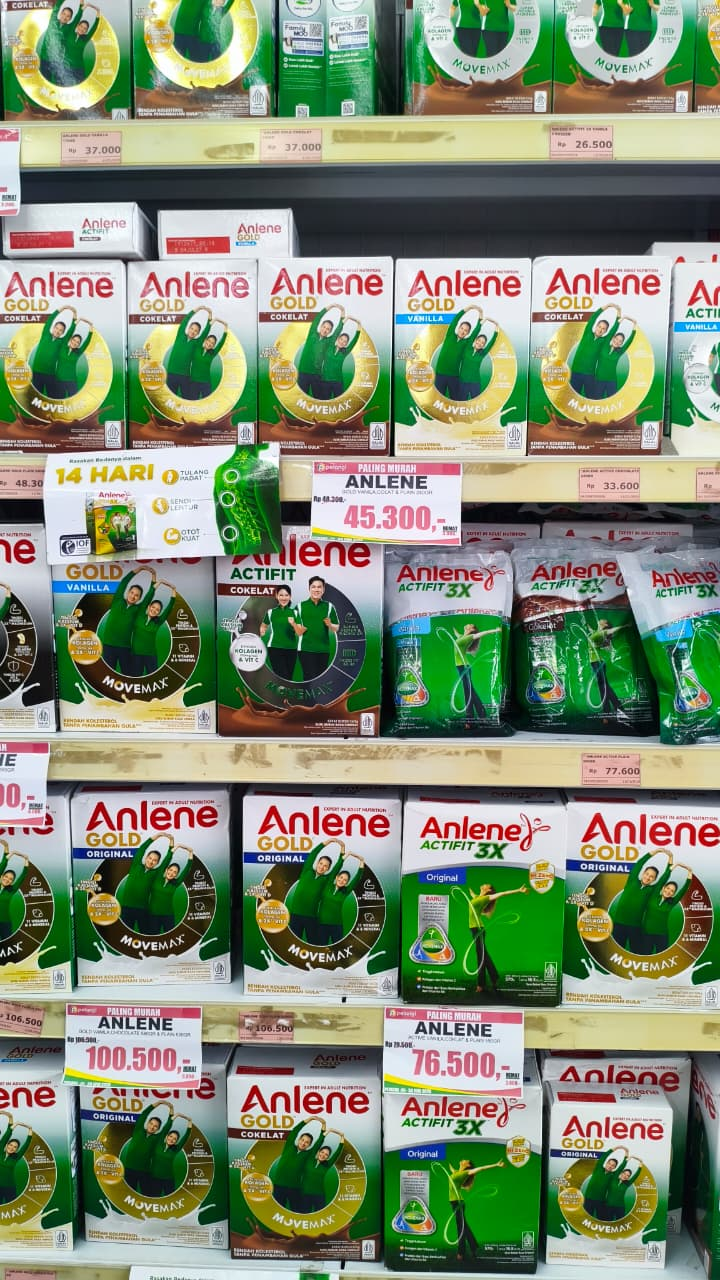Anlene: (235, 1073, 381, 1237), (253, 798, 401, 954), (127, 263, 259, 400), (546, 1098, 678, 1235), (396, 264, 528, 401)
